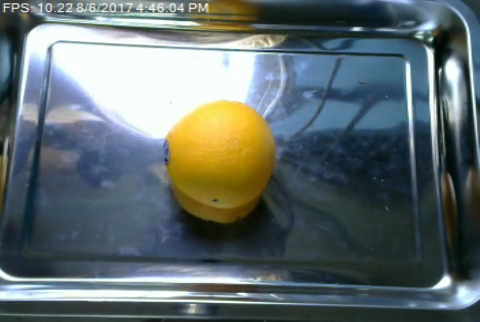Orange: (162, 100, 276, 210)
